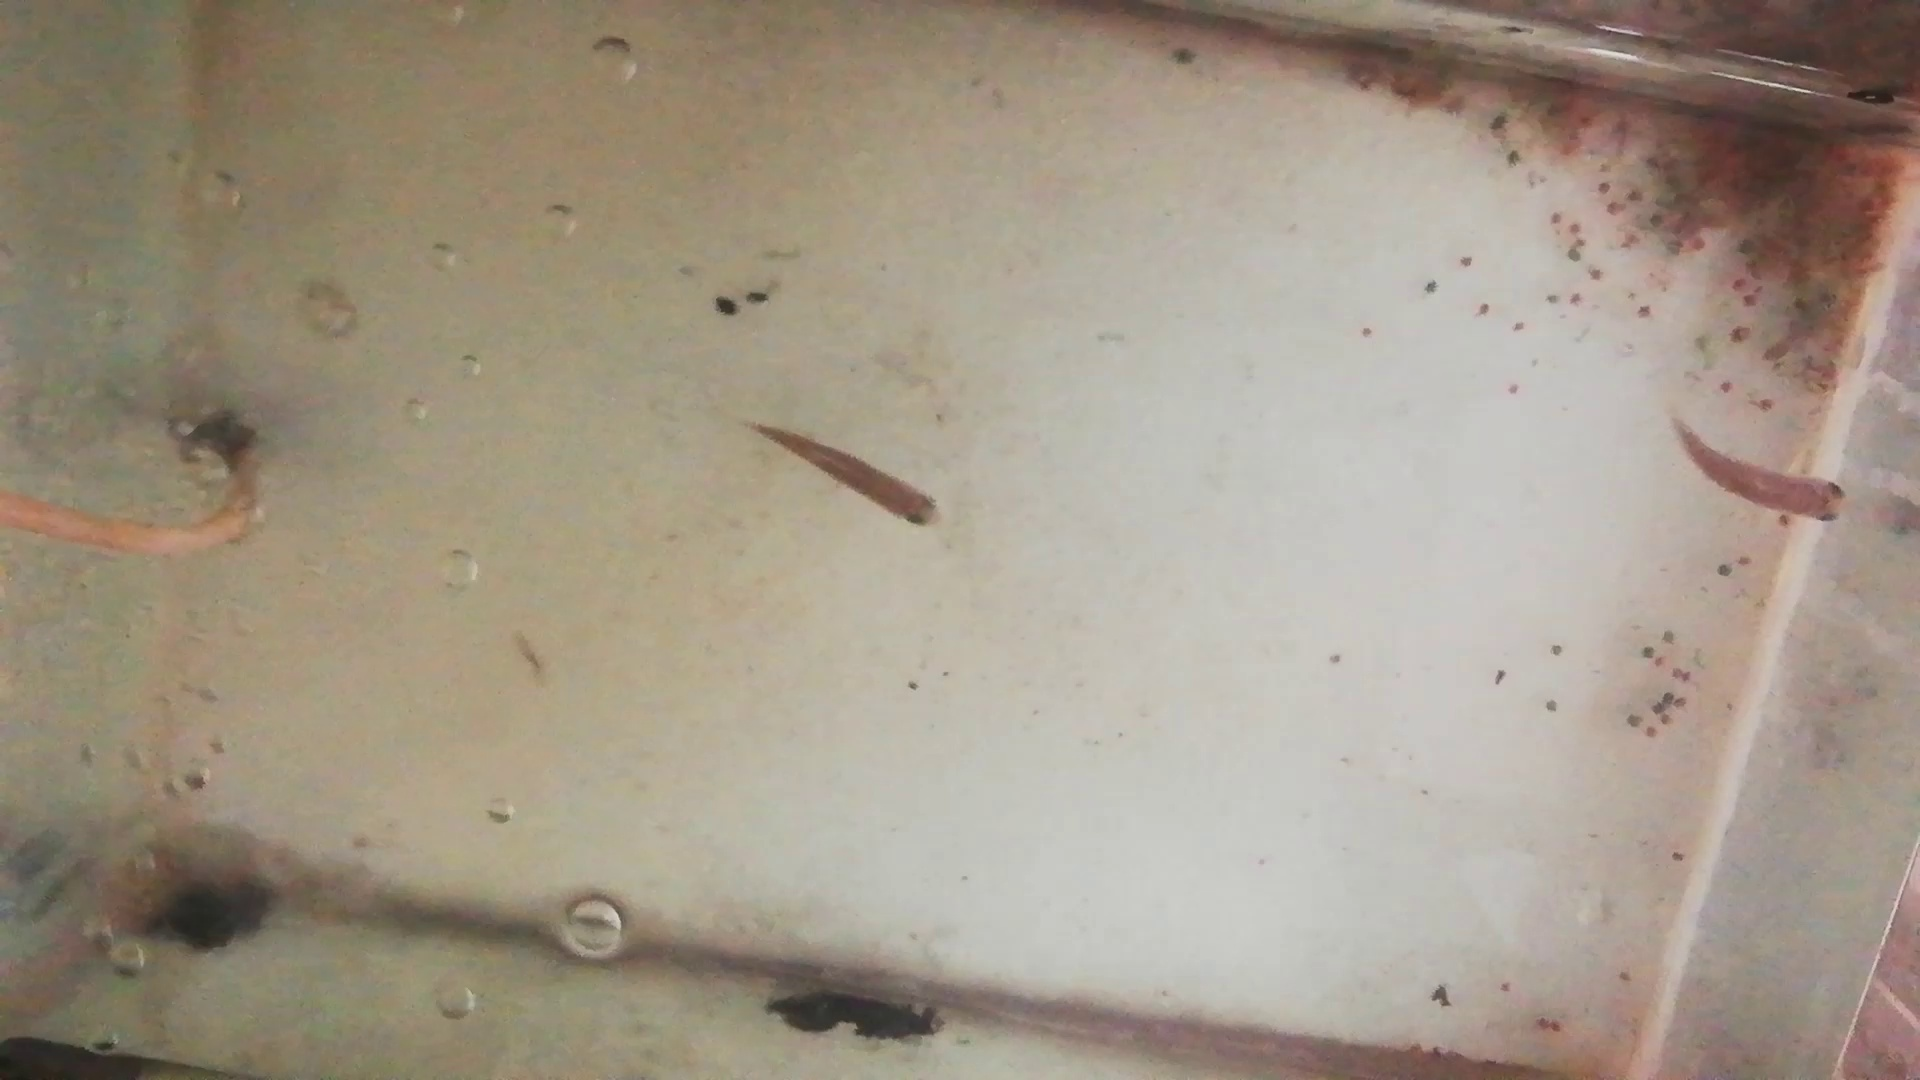fish: (752, 429, 945, 535), (1668, 415, 1845, 530)
